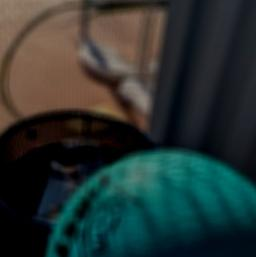algae: (40, 145, 256, 257)
